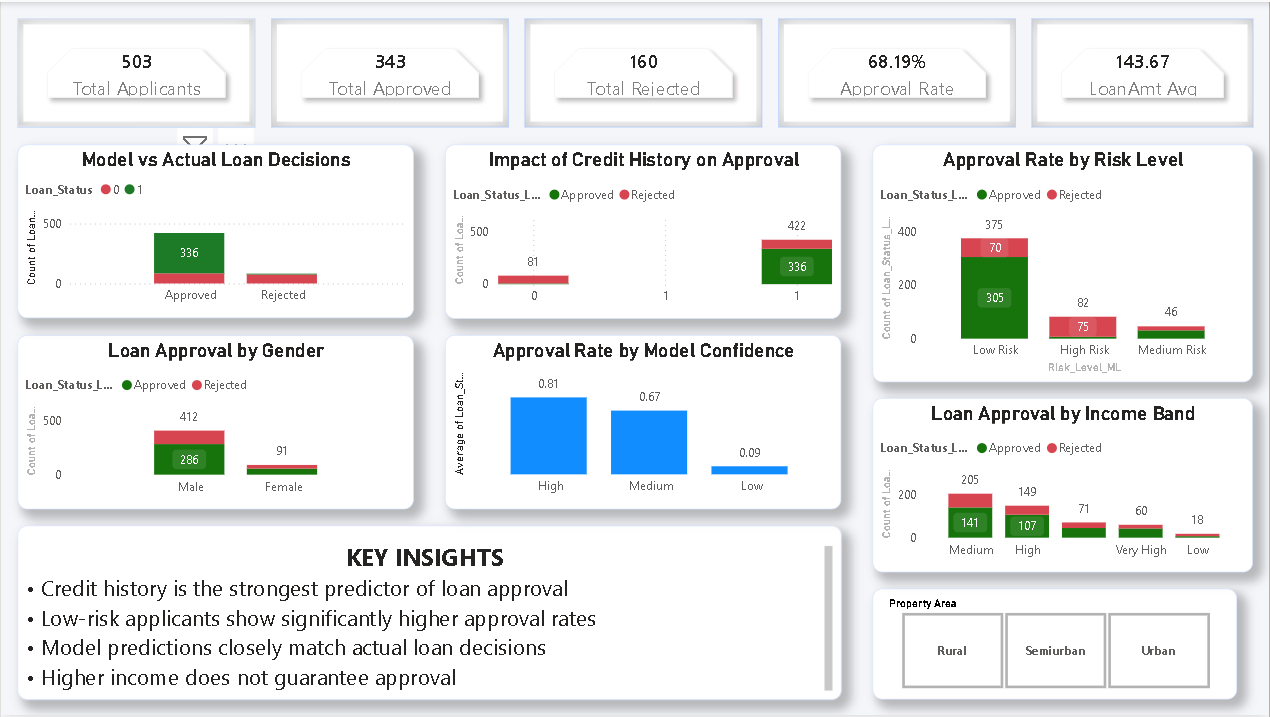

What the dashboard file says about the page in this screenshot:
{"tool":"powerbi","page":{"name":"Page 1","canvas":[1280,720],"ordinal":0},"visuals":[{"type":"columnChart","title":"Impact of Credit History on Approval","fields":{"Category":["loan_data.Credit_History"],"Y":["CountNonNull(loan_data.Loan_Status_Label)"],"Series":["loan_data.Loan_Status_Label"]},"box":[448,144,400,176],"z":1000},{"type":"columnChart","title":"Loan Approval by Gender","fields":{"Category":["loan_data.Gender_Label"],"Y":["CountNonNull(loan_data.Loan_Status_Label)"],"Series":["loan_data.Loan_Status_Label"]},"box":[16,336,400,176],"z":3000},{"type":"slicer","fields":{"Values":["loan_data.Property_Label"]},"box":[880,592,368,112],"z":4000},{"type":"cardVisual","fields":{"Data":["CountNonNull(loan_data.Loan_Status)"]},"box":[16,16,240,110],"z":5000},{"type":"cardVisual","fields":{"Data":["Avg(loan_data.LoanAmount)"]},"box":[1040,16,224,110],"z":6000},{"type":"cardVisual","fields":{"Data":["loan_data.Approval Rate"]},"box":[784,16,240,110],"z":7000},{"type":"textbox","box":[16,528,832,176],"z":8000},{"type":"columnChart","title":"Approval Rate by Risk Level","fields":{"Category":["loan_data.Risk_Level_ML"],"Y":["CountNonNull(loan_data.Loan_Status_Label)"],"Series":["loan_data.Loan_Status_Label"]},"box":[880,144,384,240],"z":9000},{"type":"columnChart","title":"Loan Approval by Income Band","fields":{"Category":["loan_data.Income_Band"],"Y":["CountNonNull(loan_data.Loan_Status_Label)"],"Series":["loan_data.Loan_Status_Label"]},"box":[880,400,384,176],"z":10000},{"type":"cardVisual","fields":{"Data":["CountNonNull(loan_data.Loan_Status)"]},"box":[272,16,240,110],"z":11000},{"type":"cardVisual","fields":{"Data":["CountNonNull(loan_data.Loan_Status)"]},"box":[528,16,240,110],"z":12000},{"type":"columnChart","title":"Model vs Actual Loan Decisions","fields":{"Category":["loan_data_final.Predicted_Label"],"Y":["CountNonNull(loan_data_final.Loan_Status)"],"Series":["loan_data_final.Loan_Status"]},"box":[16.7,143.8,399.8,175.6],"z":12001},{"type":"columnChart","title":"Approval Rate by Model Confidence","fields":{"Category":["loan_data.Prob_Band"],"Y":["Avg(loan_data.Loan_Status)"]},"box":[448,336,400,176],"z":12002}]}

Visuals, with their boxes in screenshot pixels (x1, y1, x2, y2), scaled from the page's 1280x720 canvas onto the 1270x717 screenshot:
"Impact of Credit History on Approval" columnChart: left=444, top=143, right=841, bottom=319
"Loan Approval by Gender" columnChart: left=16, top=335, right=413, bottom=510
slicer - loan_data.Property_Label: left=873, top=590, right=1238, bottom=701
cardVisual - CountNonNull(loan_data.Loan_Status): left=16, top=16, right=254, bottom=125
cardVisual - Avg(loan_data.LoanAmount): left=1032, top=16, right=1254, bottom=125
cardVisual - loan_data.Approval Rate: left=778, top=16, right=1016, bottom=125
textbox: left=16, top=526, right=841, bottom=701
"Approval Rate by Risk Level" columnChart: left=873, top=143, right=1254, bottom=382
"Loan Approval by Income Band" columnChart: left=873, top=398, right=1254, bottom=574
cardVisual - CountNonNull(loan_data.Loan_Status): left=270, top=16, right=508, bottom=125
cardVisual - CountNonNull(loan_data.Loan_Status): left=524, top=16, right=762, bottom=125
"Model vs Actual Loan Decisions" columnChart: left=17, top=143, right=413, bottom=318
"Approval Rate by Model Confidence" columnChart: left=444, top=335, right=841, bottom=510
